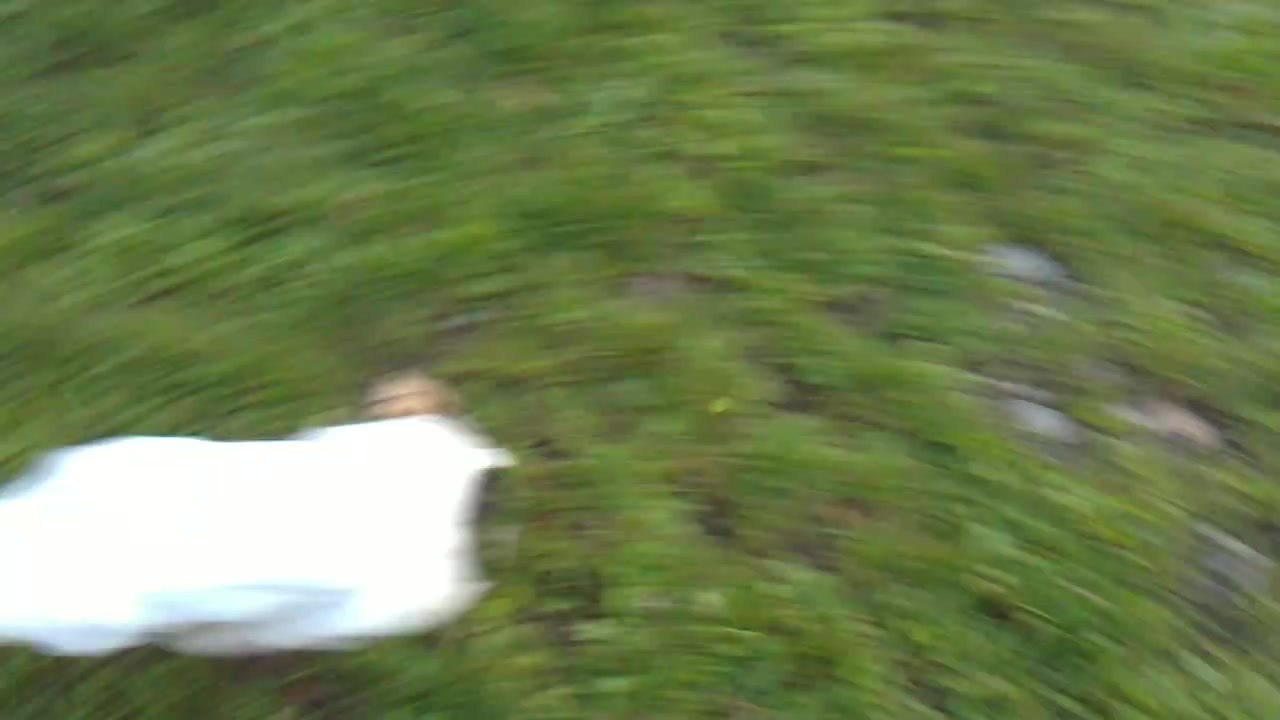dog: (1, 373, 514, 672)
